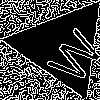W: (37, 21, 100, 87)
